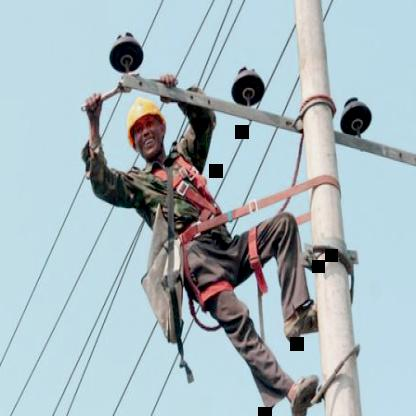helmet: (123, 91, 169, 167)
